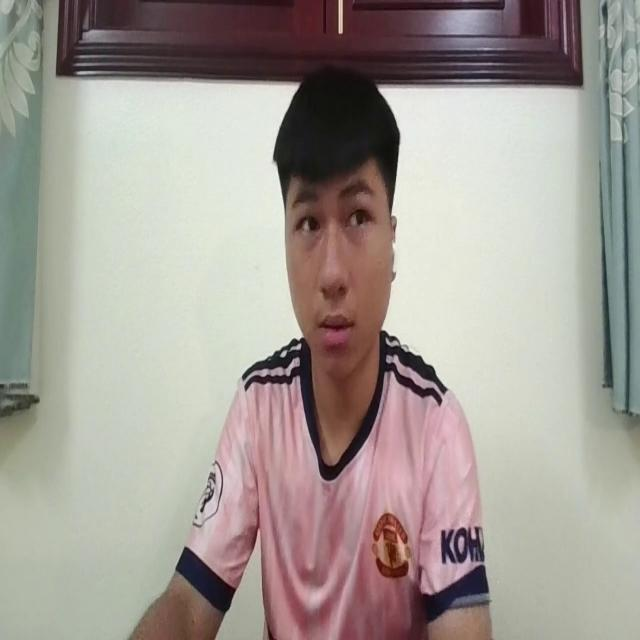student: (125, 53, 488, 640)
